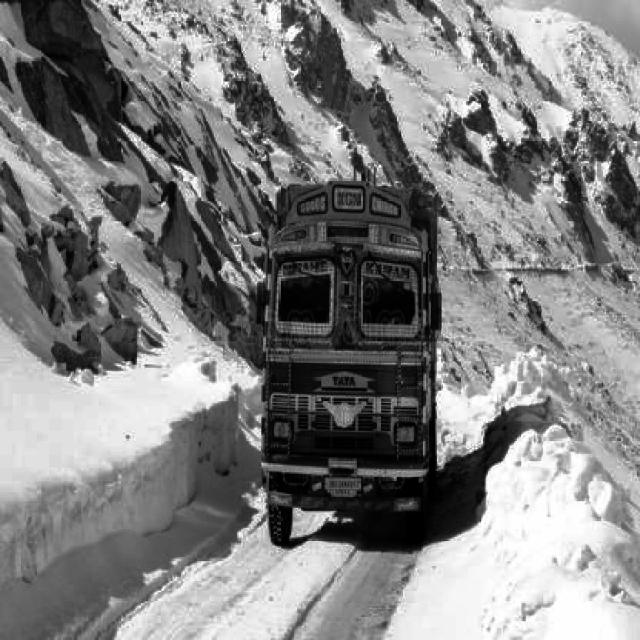HCV: (256, 189, 430, 524)
